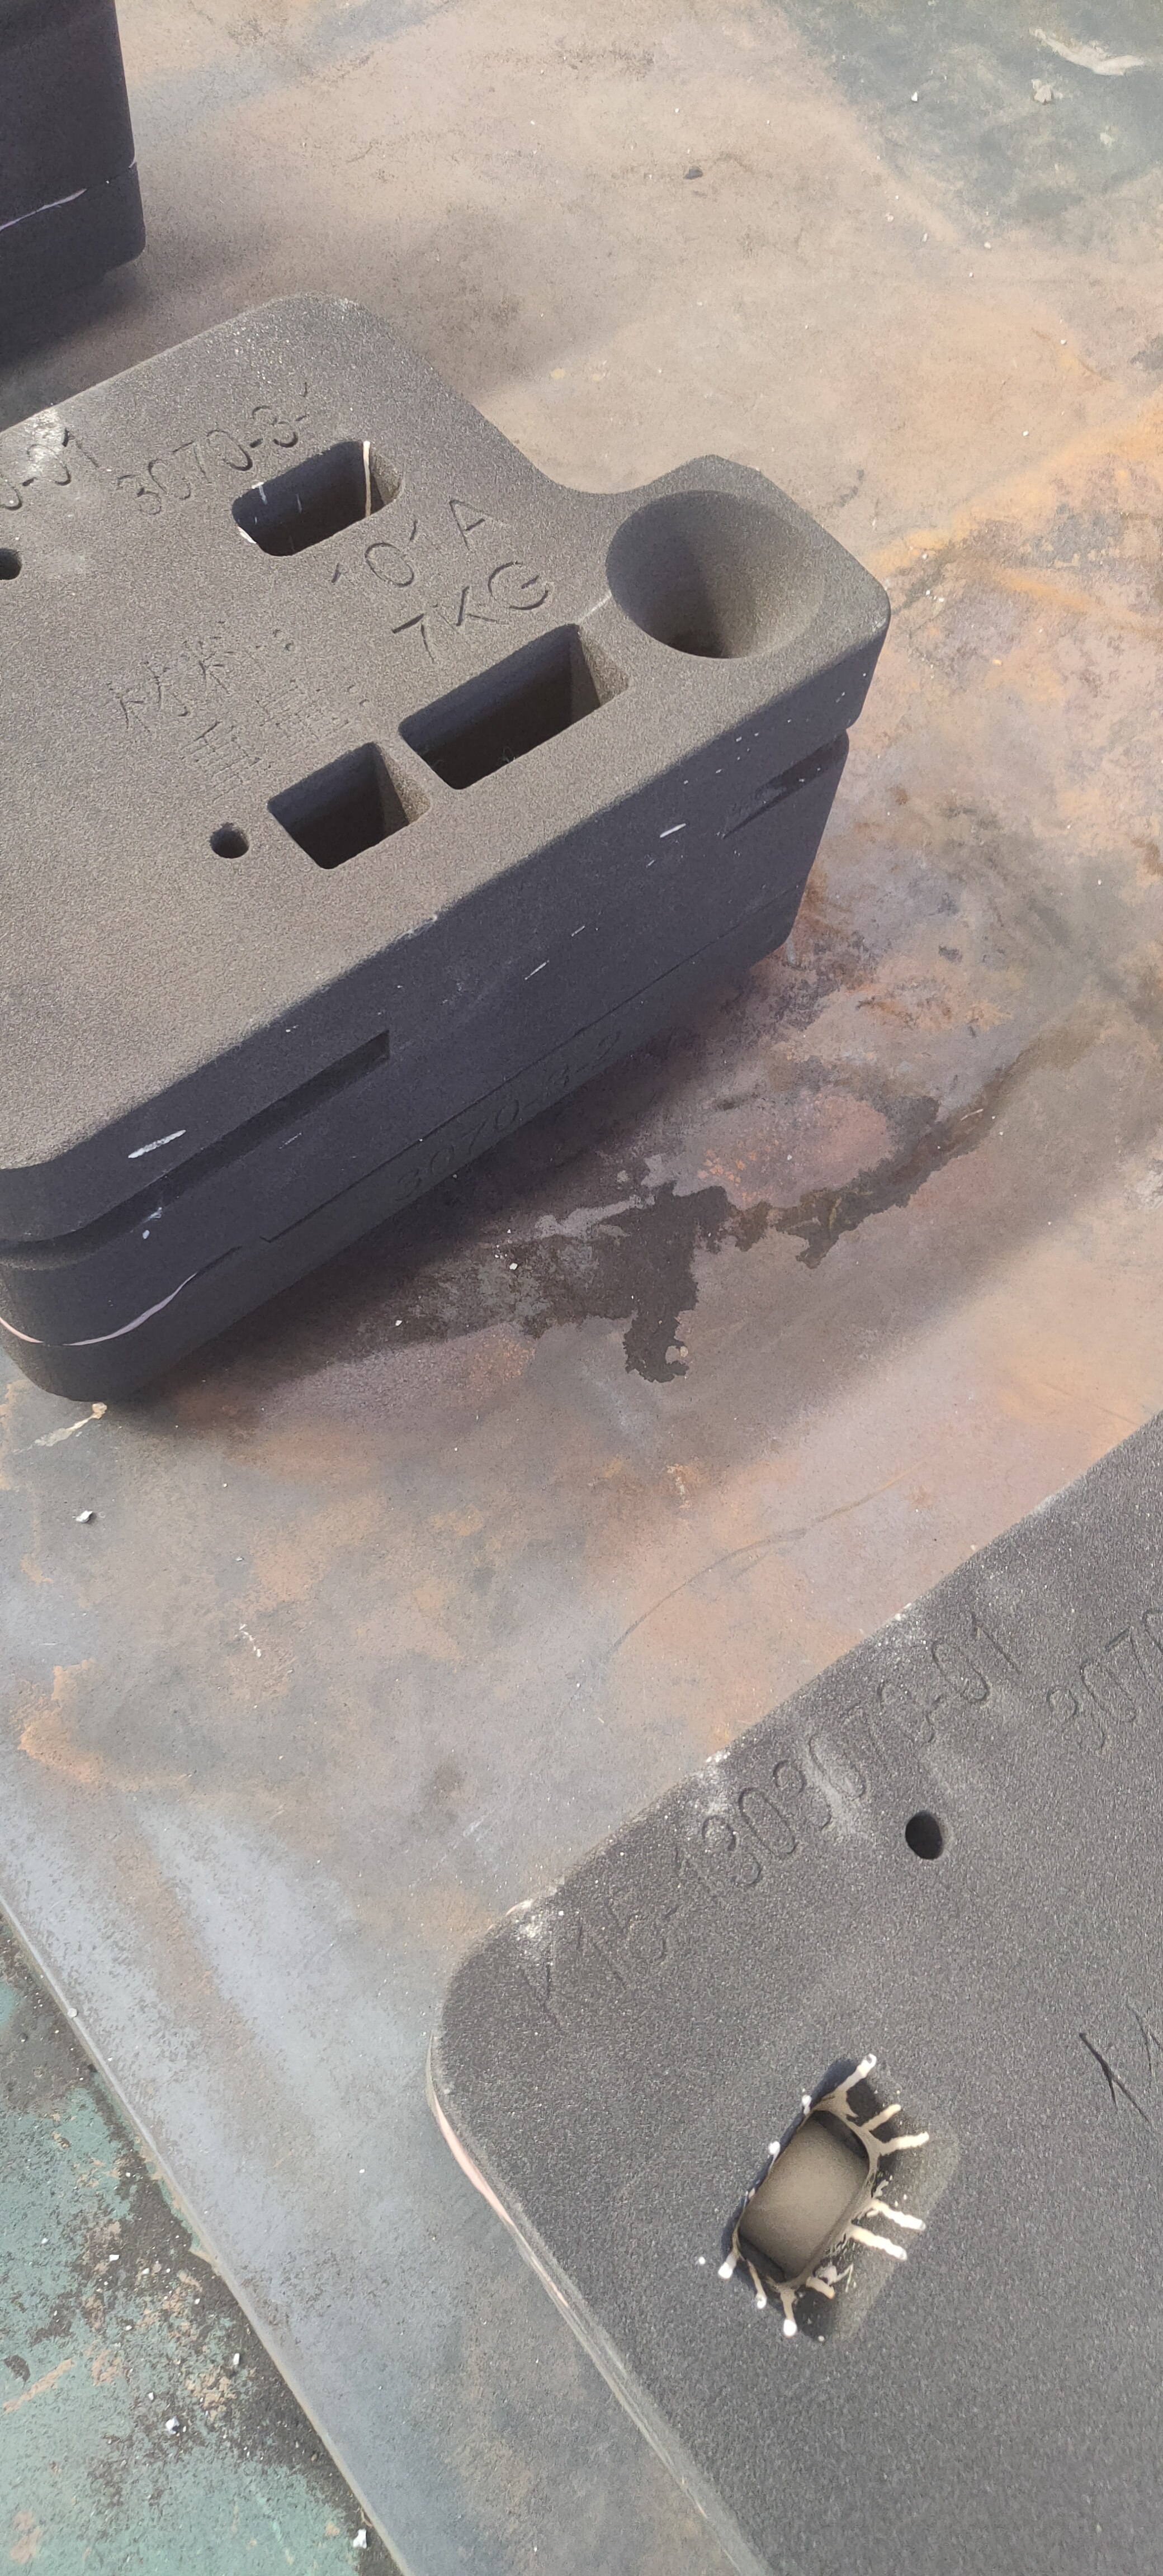pouring hole: (606, 490, 823, 662)
